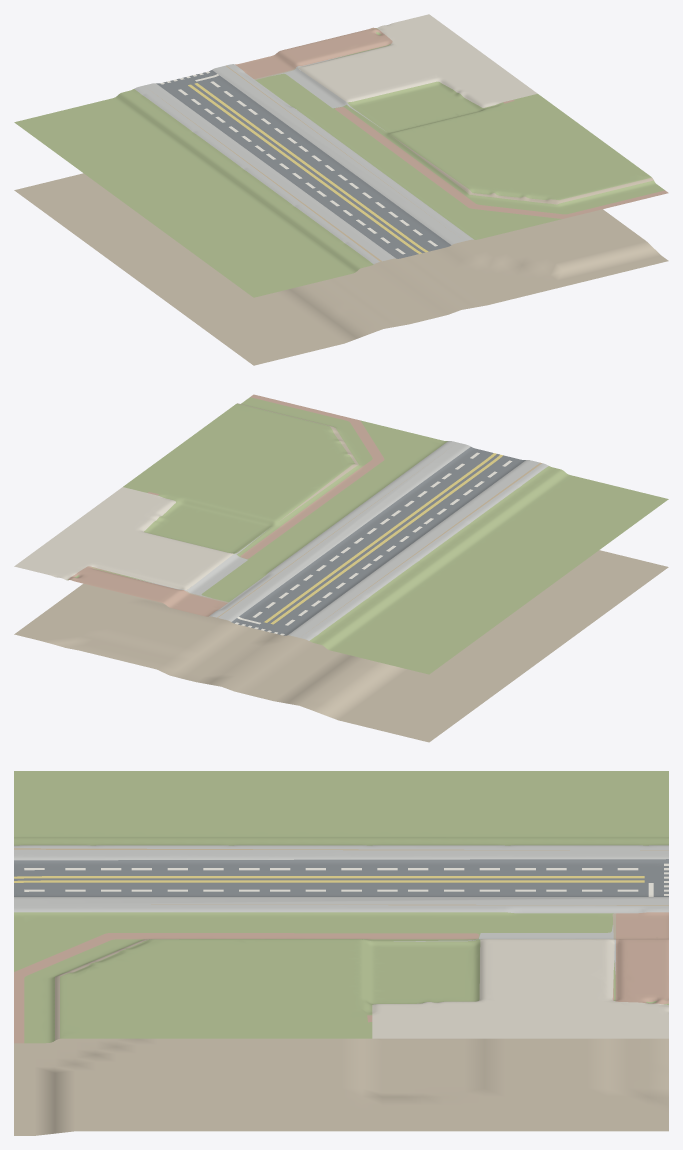
The picture shows the model from 3 angles, top to bottom: view 1: azimuth 30°, elevation 25°; view 2: azimuth 150°, elevation 25°; view 3: azimuth 270°, elevation 25°; orthographic projection. The views are drawn at different scales.
Parts seen in each view (by area): view 1: s_-3_3__grass, s_-3_3__soil, s_-3_3__stone_paving, s_-3_3__asphalt, s_-3_3__paving, s_-3_3__brick_paving, s_-3_3__yellow_marking, s_-3_3__white_marking, s_-3_3__timber_deck; view 2: s_-3_3__grass, s_-3_3__soil, s_-3_3__stone_paving, s_-3_3__asphalt, s_-3_3__paving, s_-3_3__brick_paving, s_-3_3__yellow_marking, s_-3_3__white_marking, s_-3_3__timber_deck; view 3: s_-3_3__grass, s_-3_3__soil, s_-3_3__asphalt, s_-3_3__stone_paving, s_-3_3__paving, s_-3_3__brick_paving, s_-3_3__yellow_marking, s_-3_3__white_marking, s_-3_3__timber_deck.
Boxes of the visible parts, x1=… form: s_-3_3__grass: x1=14, y1=28, x2=664, y2=297; s_-3_3__soil: x1=14, y1=68, x2=668, y2=365; s_-3_3__stone_paving: x1=134, y1=55, x2=473, y2=264; s_-3_3__asphalt: x1=156, y1=70, x2=451, y2=258; s_-3_3__paving: x1=298, y1=14, x2=537, y2=107; s_-3_3__brick_paving: x1=235, y1=27, x2=668, y2=218; s_-3_3__yellow_marking: x1=188, y1=83, x2=428, y2=253; s_-3_3__white_marking: x1=160, y1=71, x2=437, y2=254; s_-3_3__timber_deck: x1=157, y1=65, x2=445, y2=261; s_-3_3__grass: x1=67, y1=397, x2=668, y2=674; s_-3_3__soil: x1=14, y1=403, x2=668, y2=742; s_-3_3__stone_paving: x1=133, y1=441, x2=548, y2=640; s_-3_3__asphalt: x1=231, y1=447, x2=525, y2=635; s_-3_3__paving: x1=14, y1=487, x2=233, y2=589; s_-3_3__brick_paving: x1=68, y1=394, x2=384, y2=616; s_-3_3__yellow_marking: x1=264, y1=453, x2=502, y2=624; s_-3_3__white_marking: x1=235, y1=452, x2=512, y2=635; s_-3_3__timber_deck: x1=217, y1=459, x2=541, y2=631; s_-3_3__grass: x1=14, y1=771, x2=668, y2=1043; s_-3_3__soil: x1=14, y1=905, x2=668, y2=1135; s_-3_3__asphalt: x1=14, y1=859, x2=668, y2=896; s_-3_3__stone_paving: x1=14, y1=845, x2=668, y2=974; s_-3_3__paving: x1=372, y1=939, x2=668, y2=1038; s_-3_3__brick_paving: x1=14, y1=912, x2=668, y2=1043; s_-3_3__yellow_marking: x1=14, y1=876, x2=644, y2=882; s_-3_3__white_marking: x1=24, y1=863, x2=668, y2=896; s_-3_3__timber_deck: x1=14, y1=848, x2=668, y2=905.
Size of the model in its own units: 128 by 22.17 by 128.
